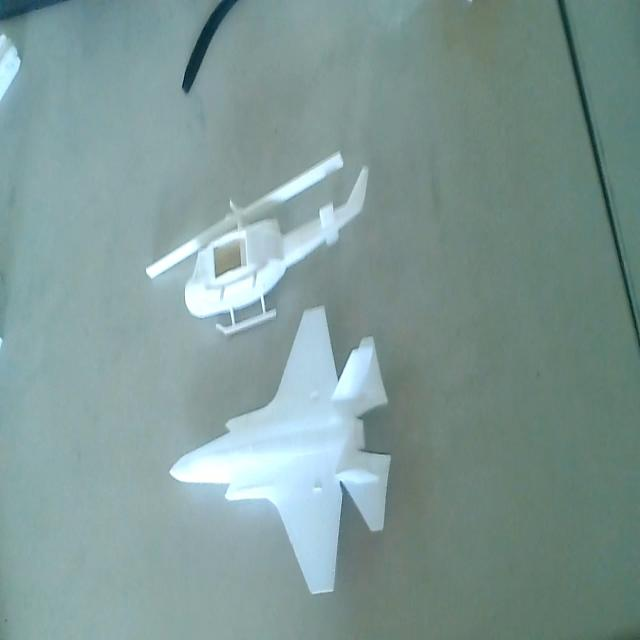Helicopter: (143, 150, 370, 346)
Jet: (171, 306, 395, 601)
